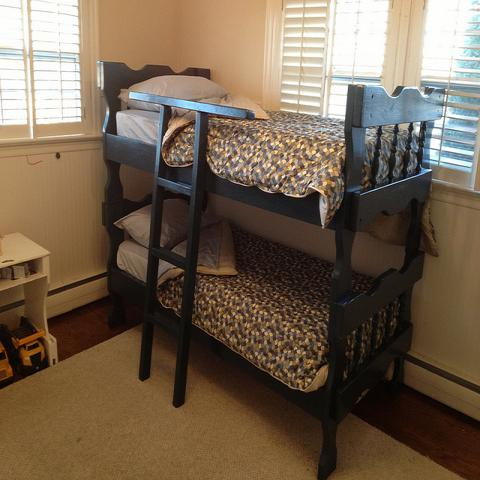truck: (1, 315, 48, 375)
